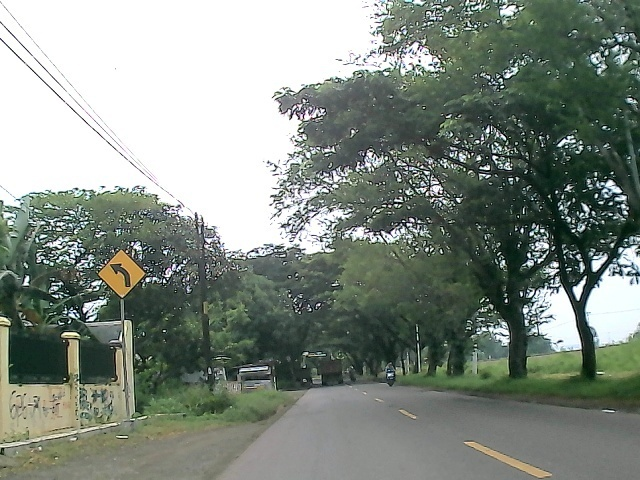Tikungan ke kiri: (96, 246, 150, 300)
